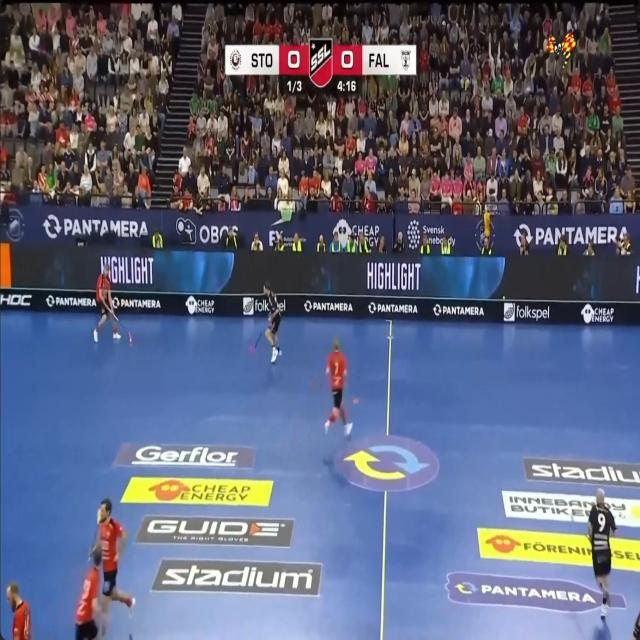player: (98, 499, 134, 637), (587, 488, 616, 618), (325, 339, 352, 436), (75, 545, 102, 639), (93, 263, 120, 341), (263, 282, 281, 363), (6, 583, 30, 639)
stick: (111, 310, 132, 342), (88, 510, 100, 562), (88, 523, 99, 562), (250, 332, 261, 353), (254, 332, 262, 349), (111, 310, 119, 323)
